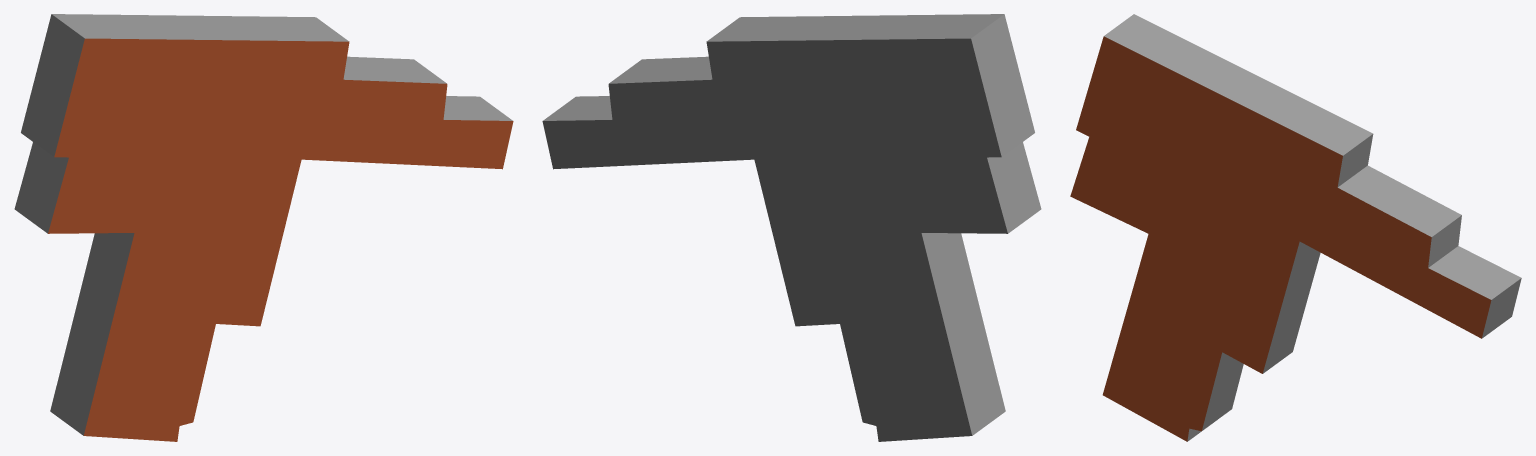
Rendered from construction_4577_assumed_A_Casa_h6m.obj.
The picture shows the model from 3 angles, left to right: view 1: azimuth 30°, elevation 25°; view 2: azimuth 150°, elevation 25°; view 3: azimuth 330°, elevation 25°; orthographic projection. The views are drawn at different scales.
Visible parts, largest first — view 1: construction_4577_assumed_A_Casa; view 2: construction_4577_assumed_A_Casa; view 3: construction_4577_assumed_A_Casa.
Boxes of the visible parts, <box> form: construction_4577_assumed_A_Casa: <box>14,14,513,441</box>; construction_4577_assumed_A_Casa: <box>542,14,1041,441</box>; construction_4577_assumed_A_Casa: <box>1070,14,1521,441</box>.
Size of the model in its own units: 48.15 by 42.1 by 6.
